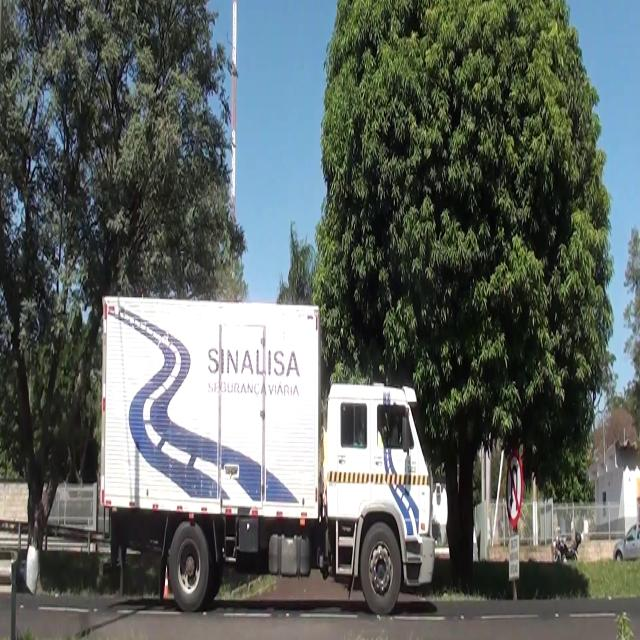-axle: (361, 525, 402, 607), (171, 521, 209, 608)
